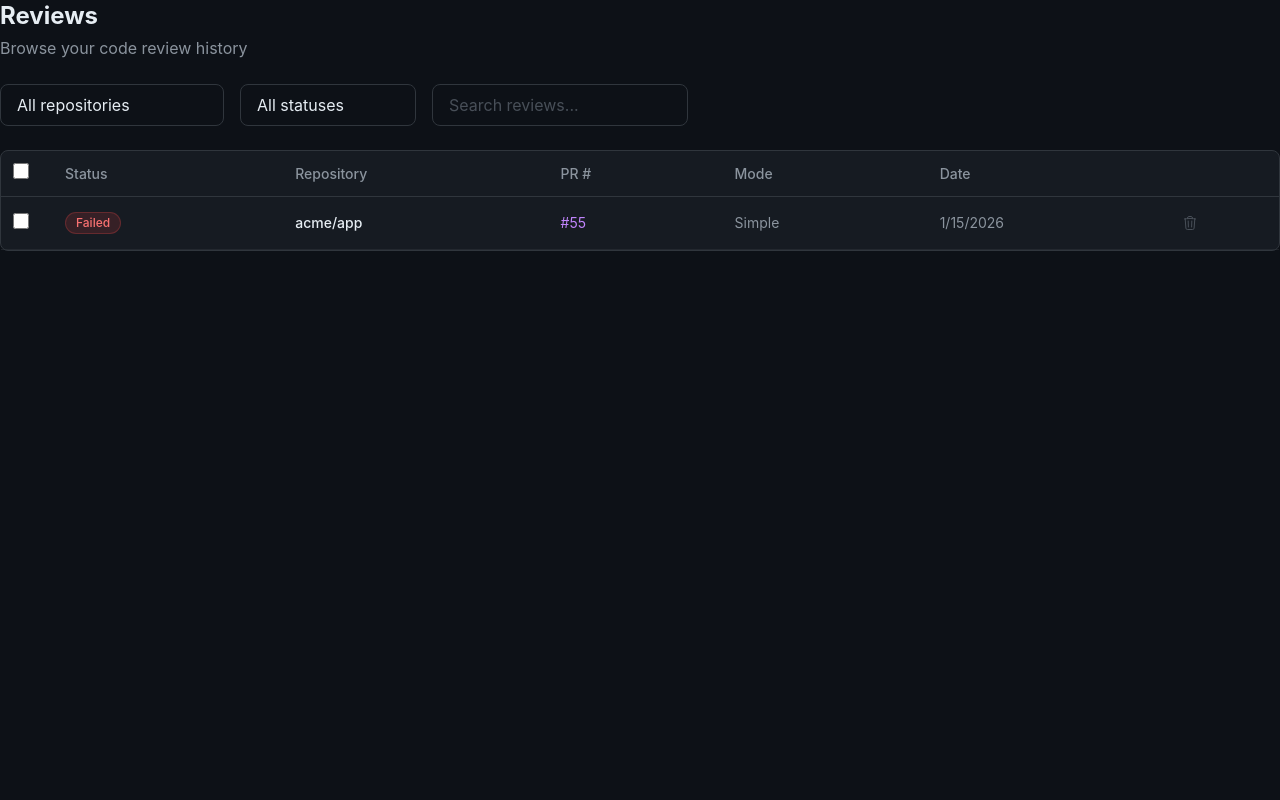
Reviews — detail modal › closes the modal when the close button is clicked
This screenshot has width=1280, height=800.
// Open modal
Click the text "acme/app". click: coordinates (329, 222)
box: [271, 196, 537, 250]
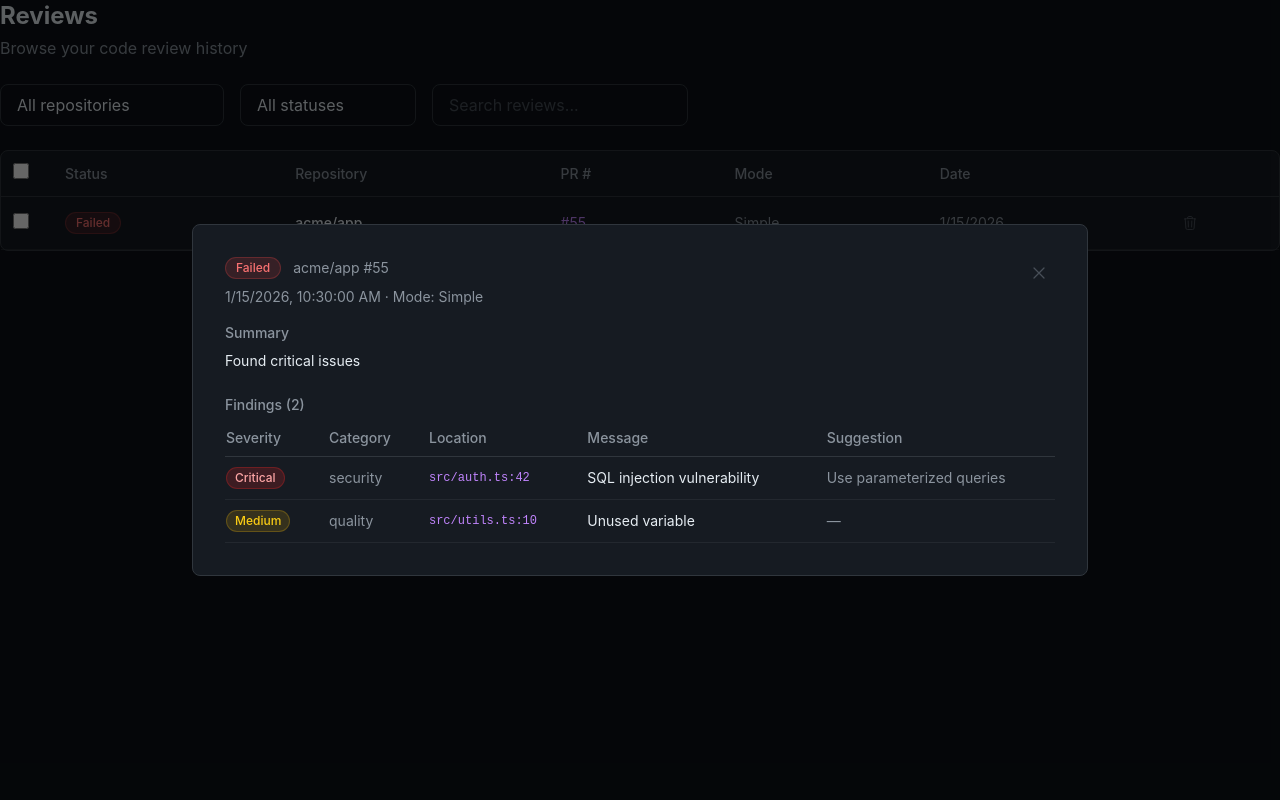
Expected: the text "Found critical issues" is shown, [225, 352, 360, 369]
Expected: the button is shown
Click the button. click: coordinates (1039, 273)
box: [1023, 257, 1055, 289]
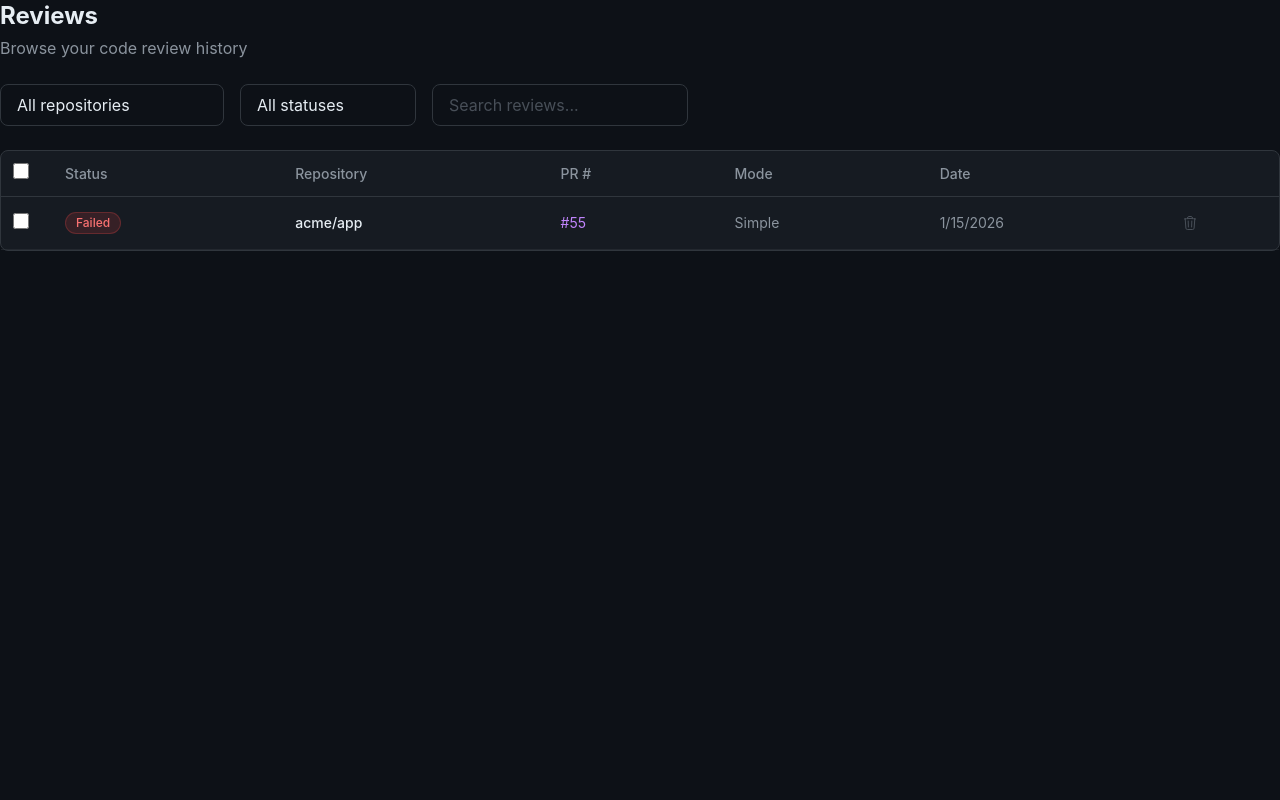
Expected: the text "Found critical issues" is gone
